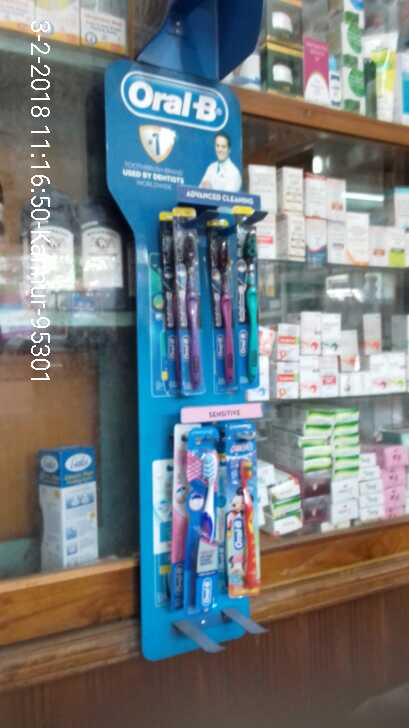oralb: (182, 423, 223, 610), (224, 421, 261, 598), (169, 203, 204, 389), (206, 217, 240, 390), (235, 208, 263, 388)
